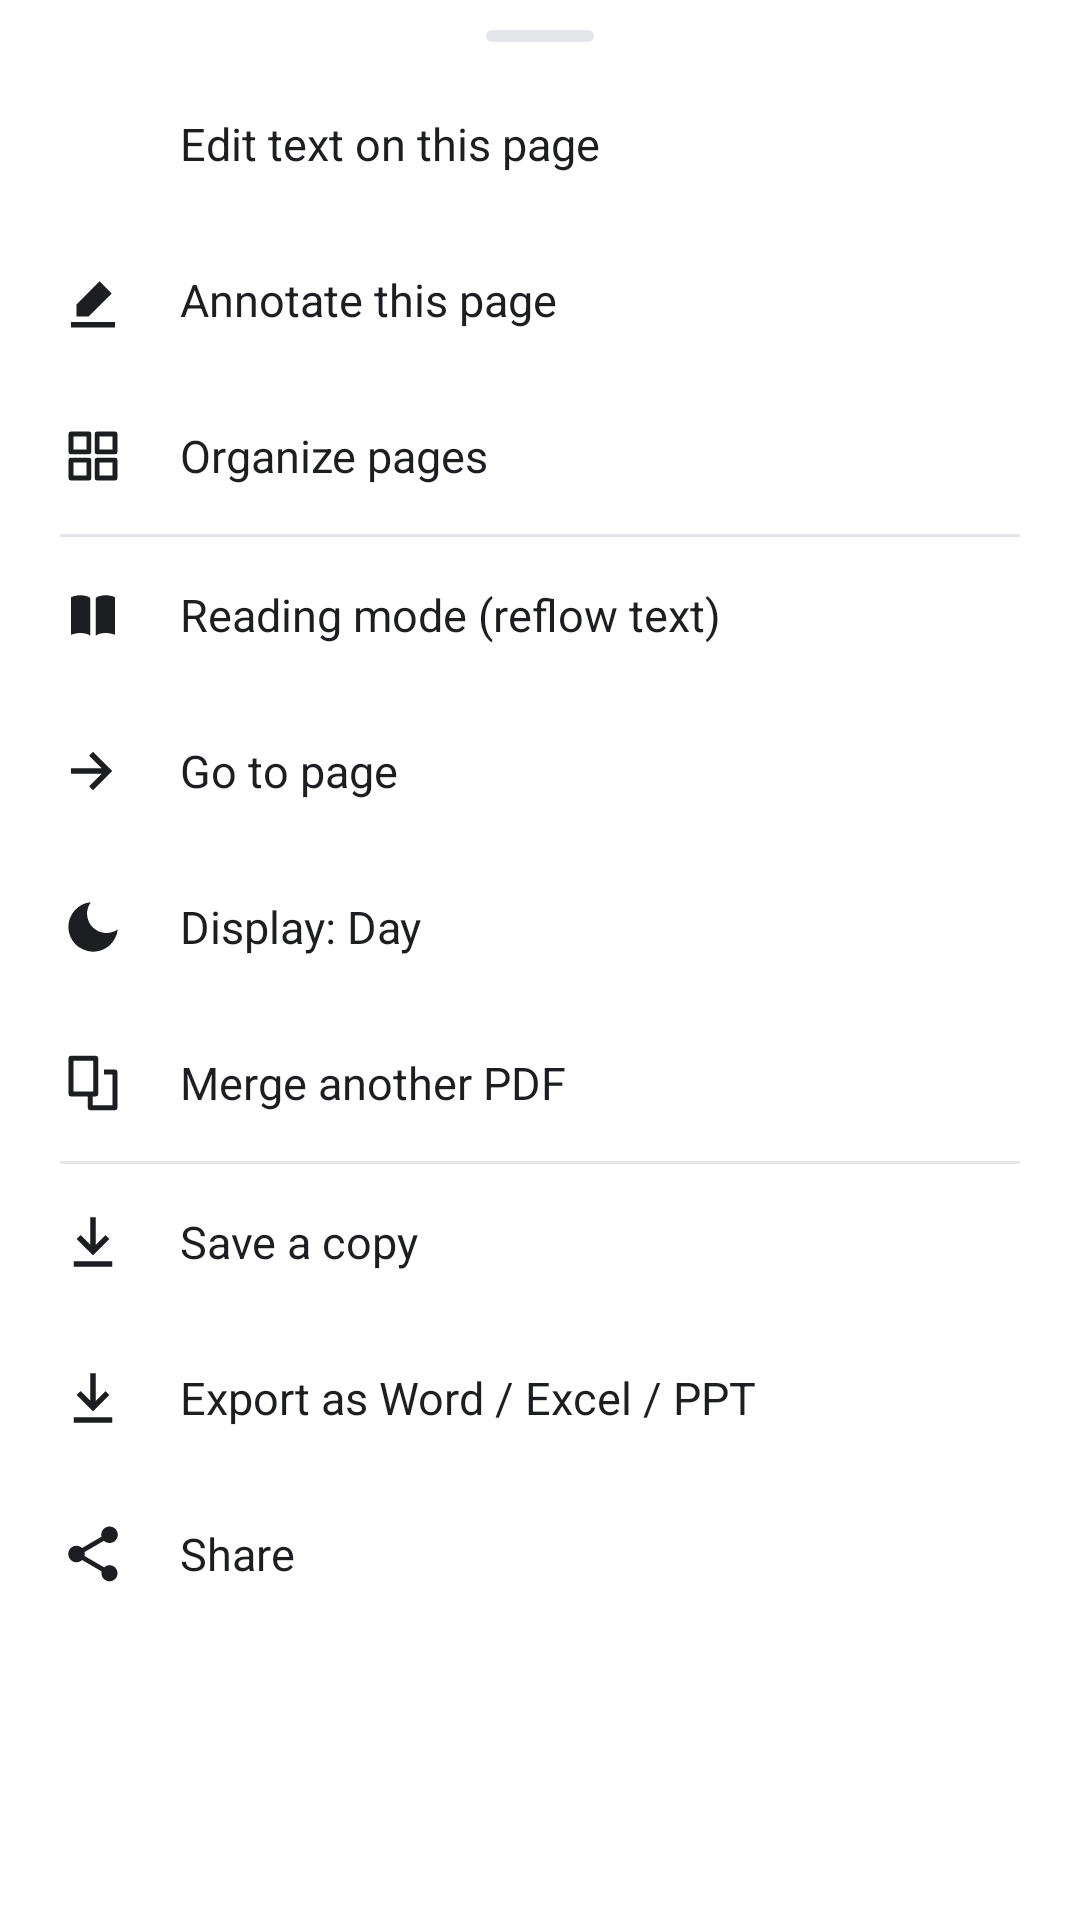

Named icons in this screenshot (1080w x 1920h) and their centers, point (x, y):
book: point (93, 615)
night: point (93, 927)
